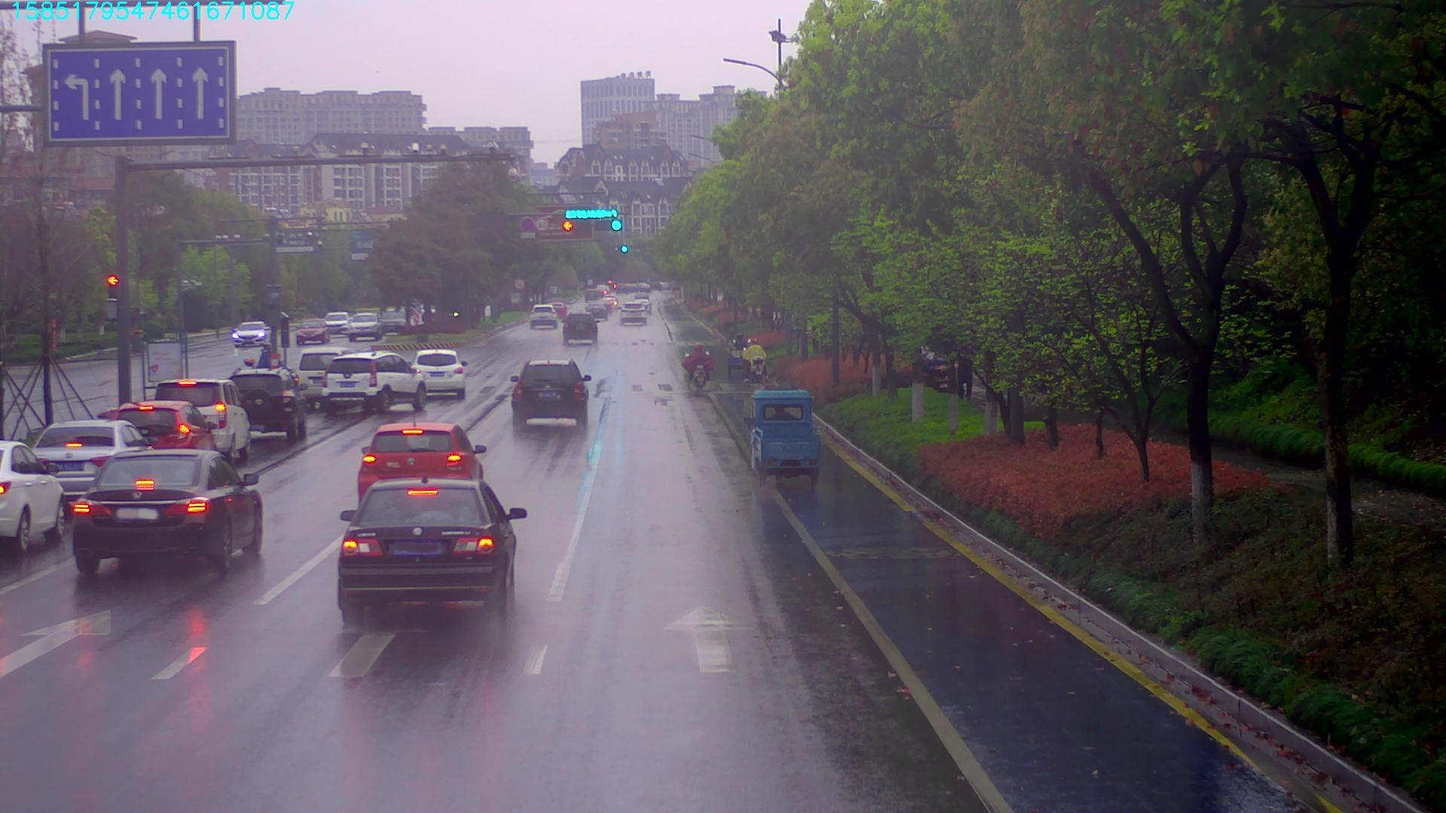green: (596, 219, 624, 231)
red: (563, 220, 587, 233)
wait_on: (566, 206, 618, 220)
